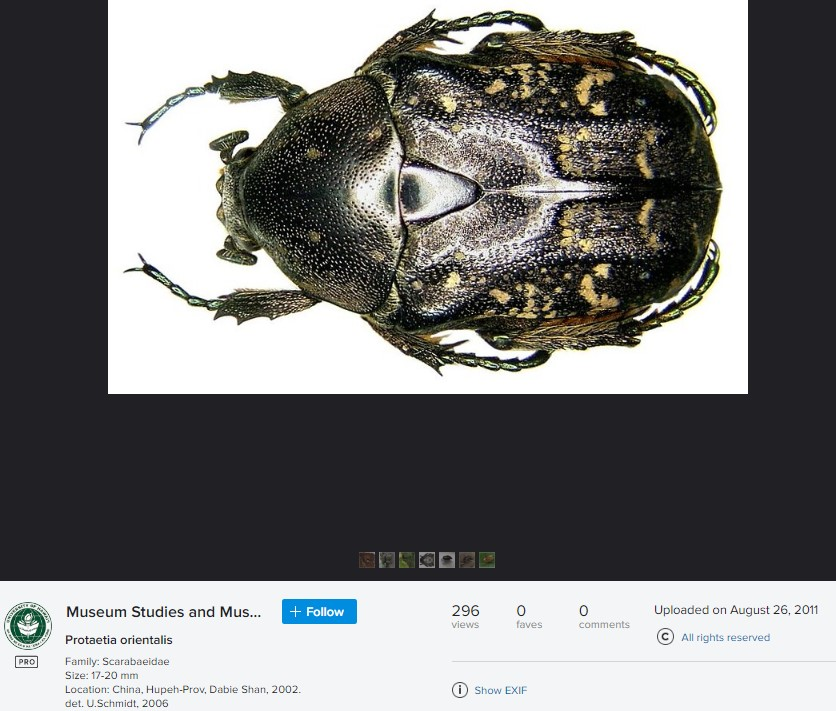Protaetia _orientalis: (121, 1, 738, 383)
